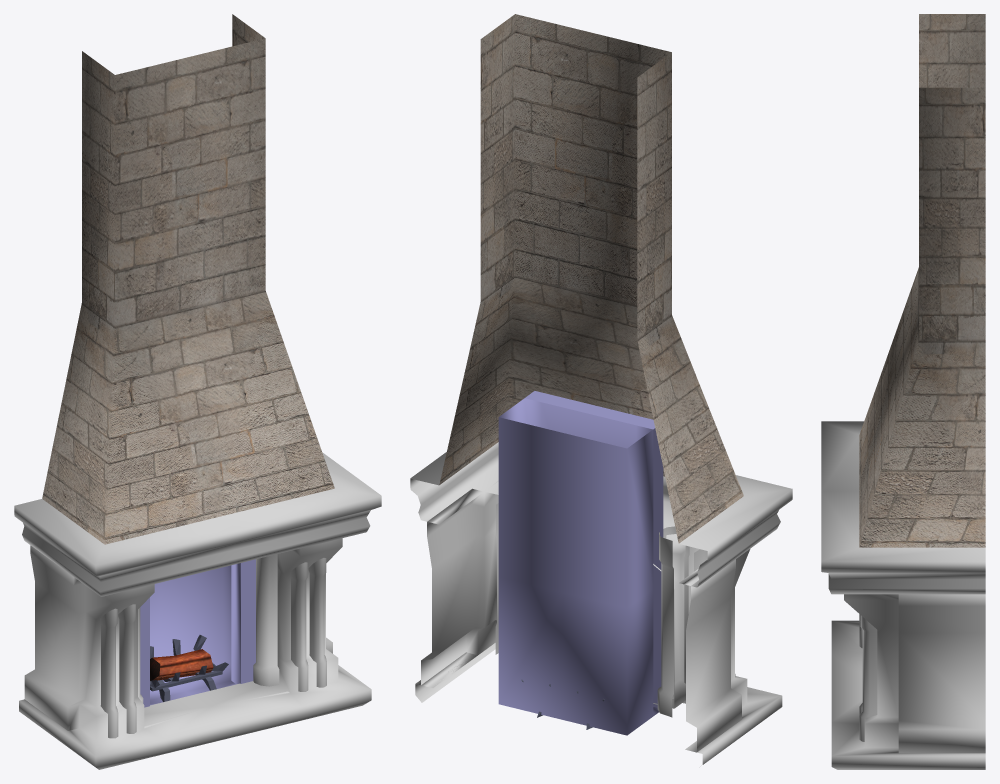
File: Fireplace_Tapered.fbx
3 views of the same model, side by side, from view 1: azimuth 30°, elevation 25°; view 2: azimuth 150°, elevation 25°; view 3: azimuth 270°, elevation 25° (orthographic). The views are drawn at different scales.
Parts seen in each view (by area): view 1: Fireplace2; view 2: Fireplace2; view 3: Fireplace2.
Part boxes in pixels (x1,y1,x2,y2): Fireplace2: [14, 14, 381, 769]; Fireplace2: [410, 14, 792, 764]; Fireplace2: [821, 14, 985, 769].
Size of the model in its own units: 202 by 439 by 99.85.
